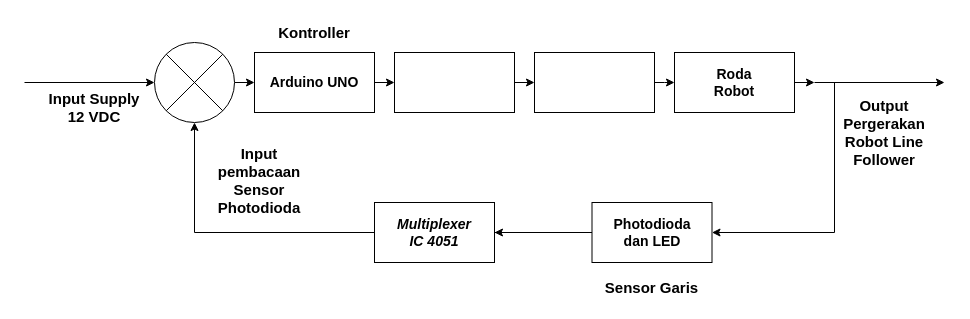
Some shapes in this 970 by 319 pixel diagram are drawn without their labels. Here are the shapes that lost their labels. From the top down, the box of each, then its label:
(394, 52, 514, 112): PID Control
(534, 52, 654, 112): DC Motor
